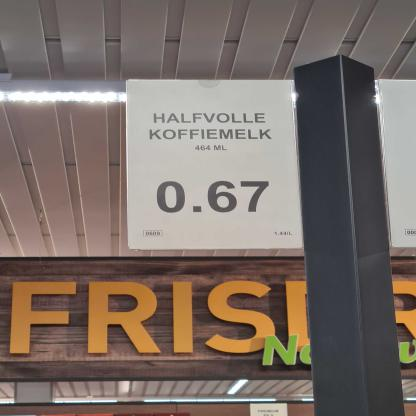prtg: (126, 80, 305, 252)
